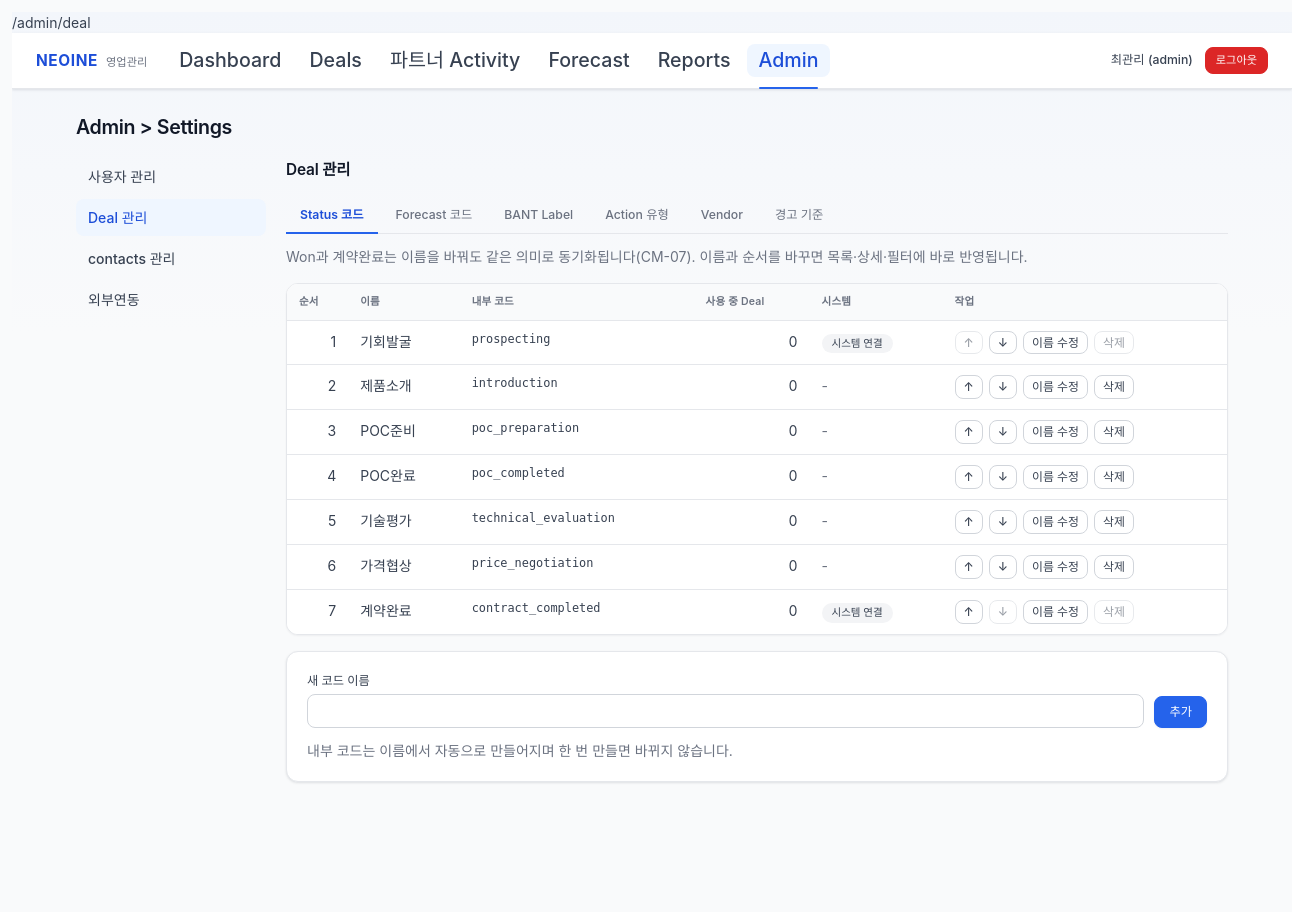
it: 업무 데이터가 없는 첫 실행 상태 › still shows the default codes and BANT labels in Deal management
Expected: the row "1 기회발굴 prospecting 0 시스템 연결 ↑ ↓ 이름 수정 삭제" is shown, top-left (287, 321), bottom-right (1227, 366)
Step 1. Click the tab "Forecast 코드" → (434, 216), box top-left (382, 198), bottom-right (486, 234)
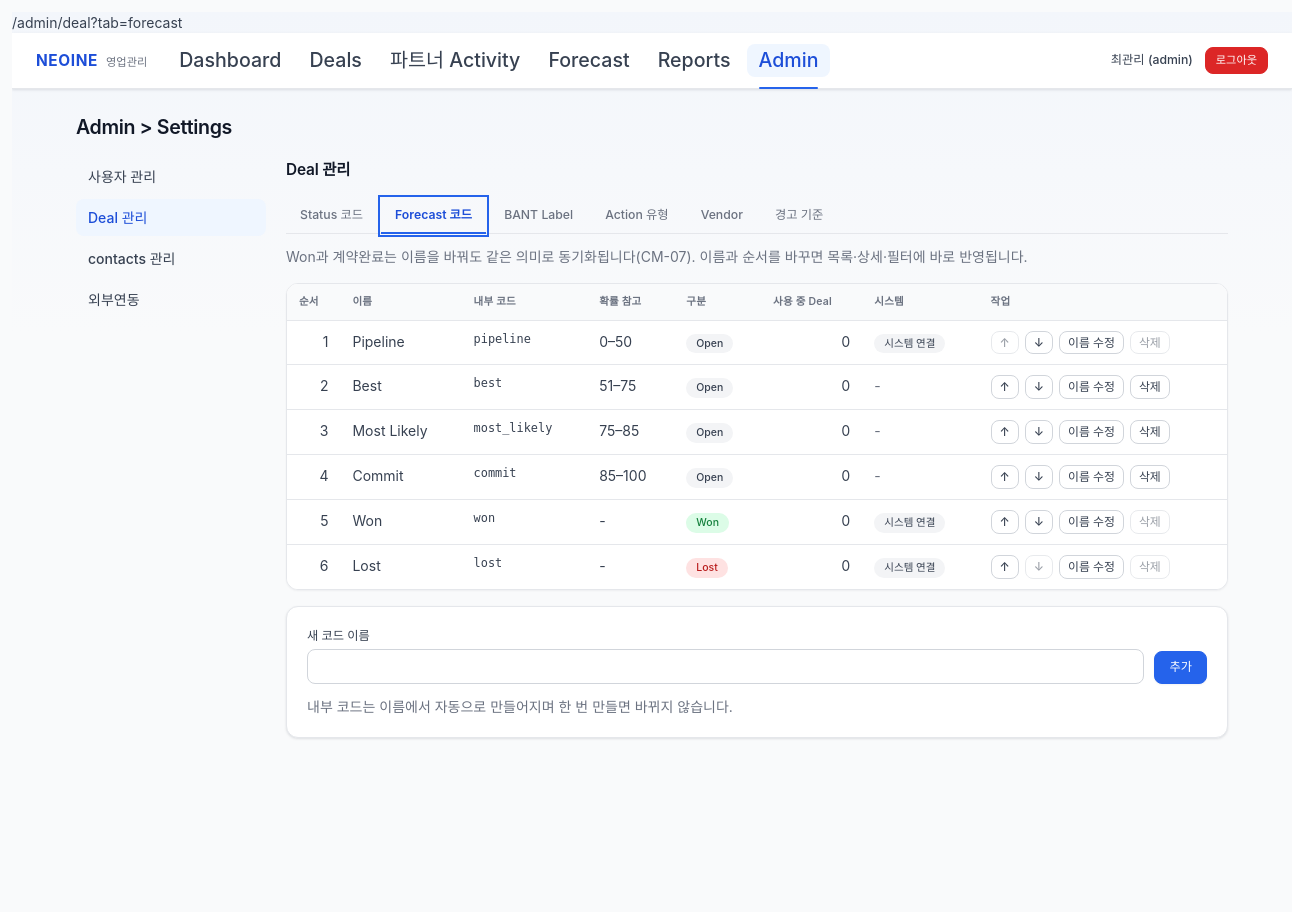
Expected: the row "4 Commit commit 85–100 Open 0 - ↑ ↓ 이름 수정 삭제" is shown, top-left (287, 455), bottom-right (1227, 500)
Step 2. Click the tab "BANT Label" → (539, 216), box top-left (490, 198), bottom-right (587, 234)
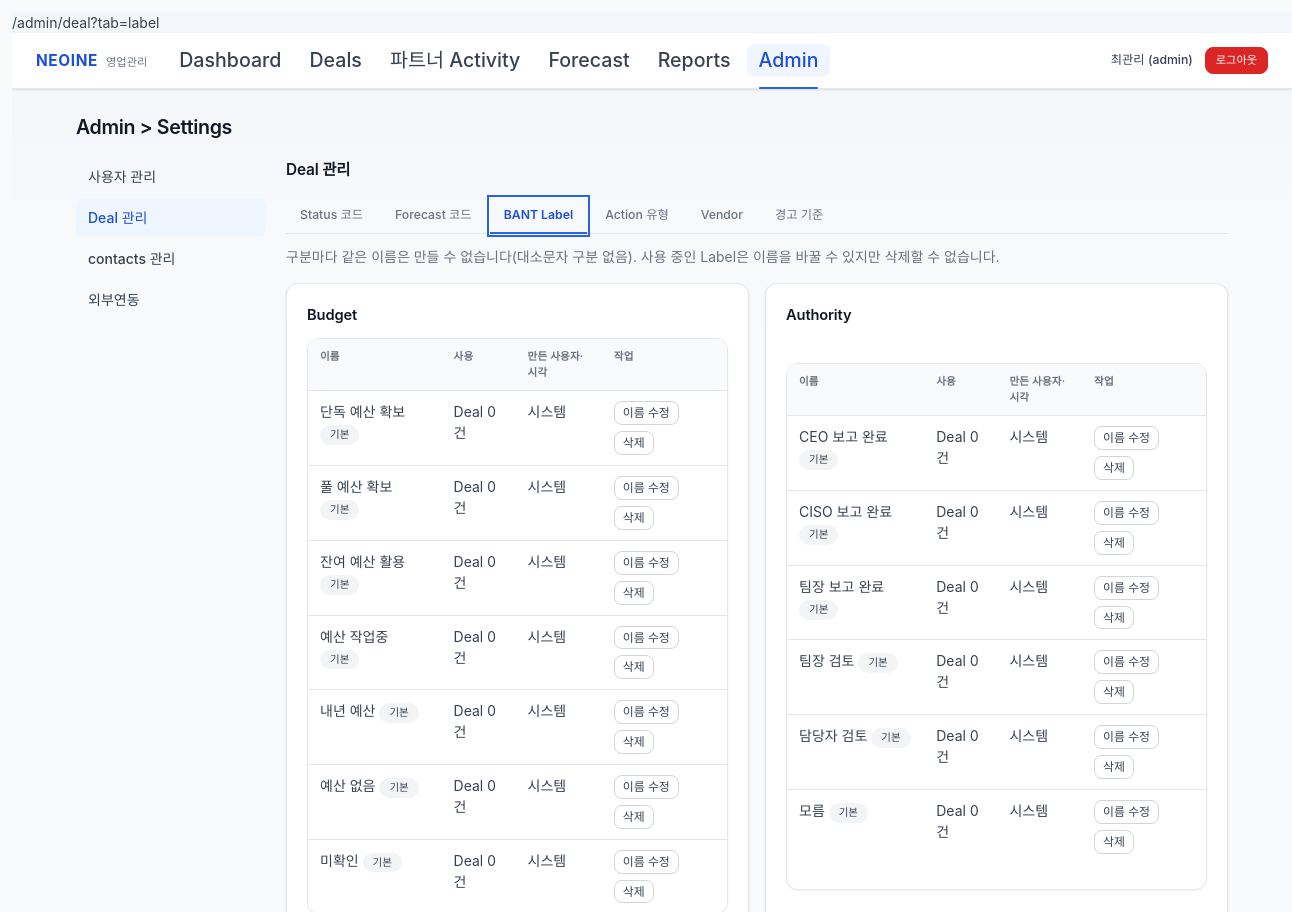
Expected: the text "단독 예산 확보" is shown, top-left (320, 403), bottom-right (405, 420)
